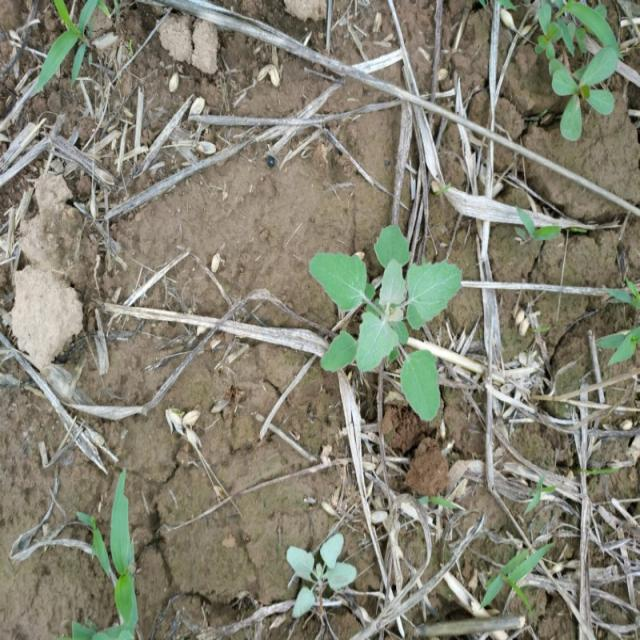goosefoots: (303, 225, 482, 419)
